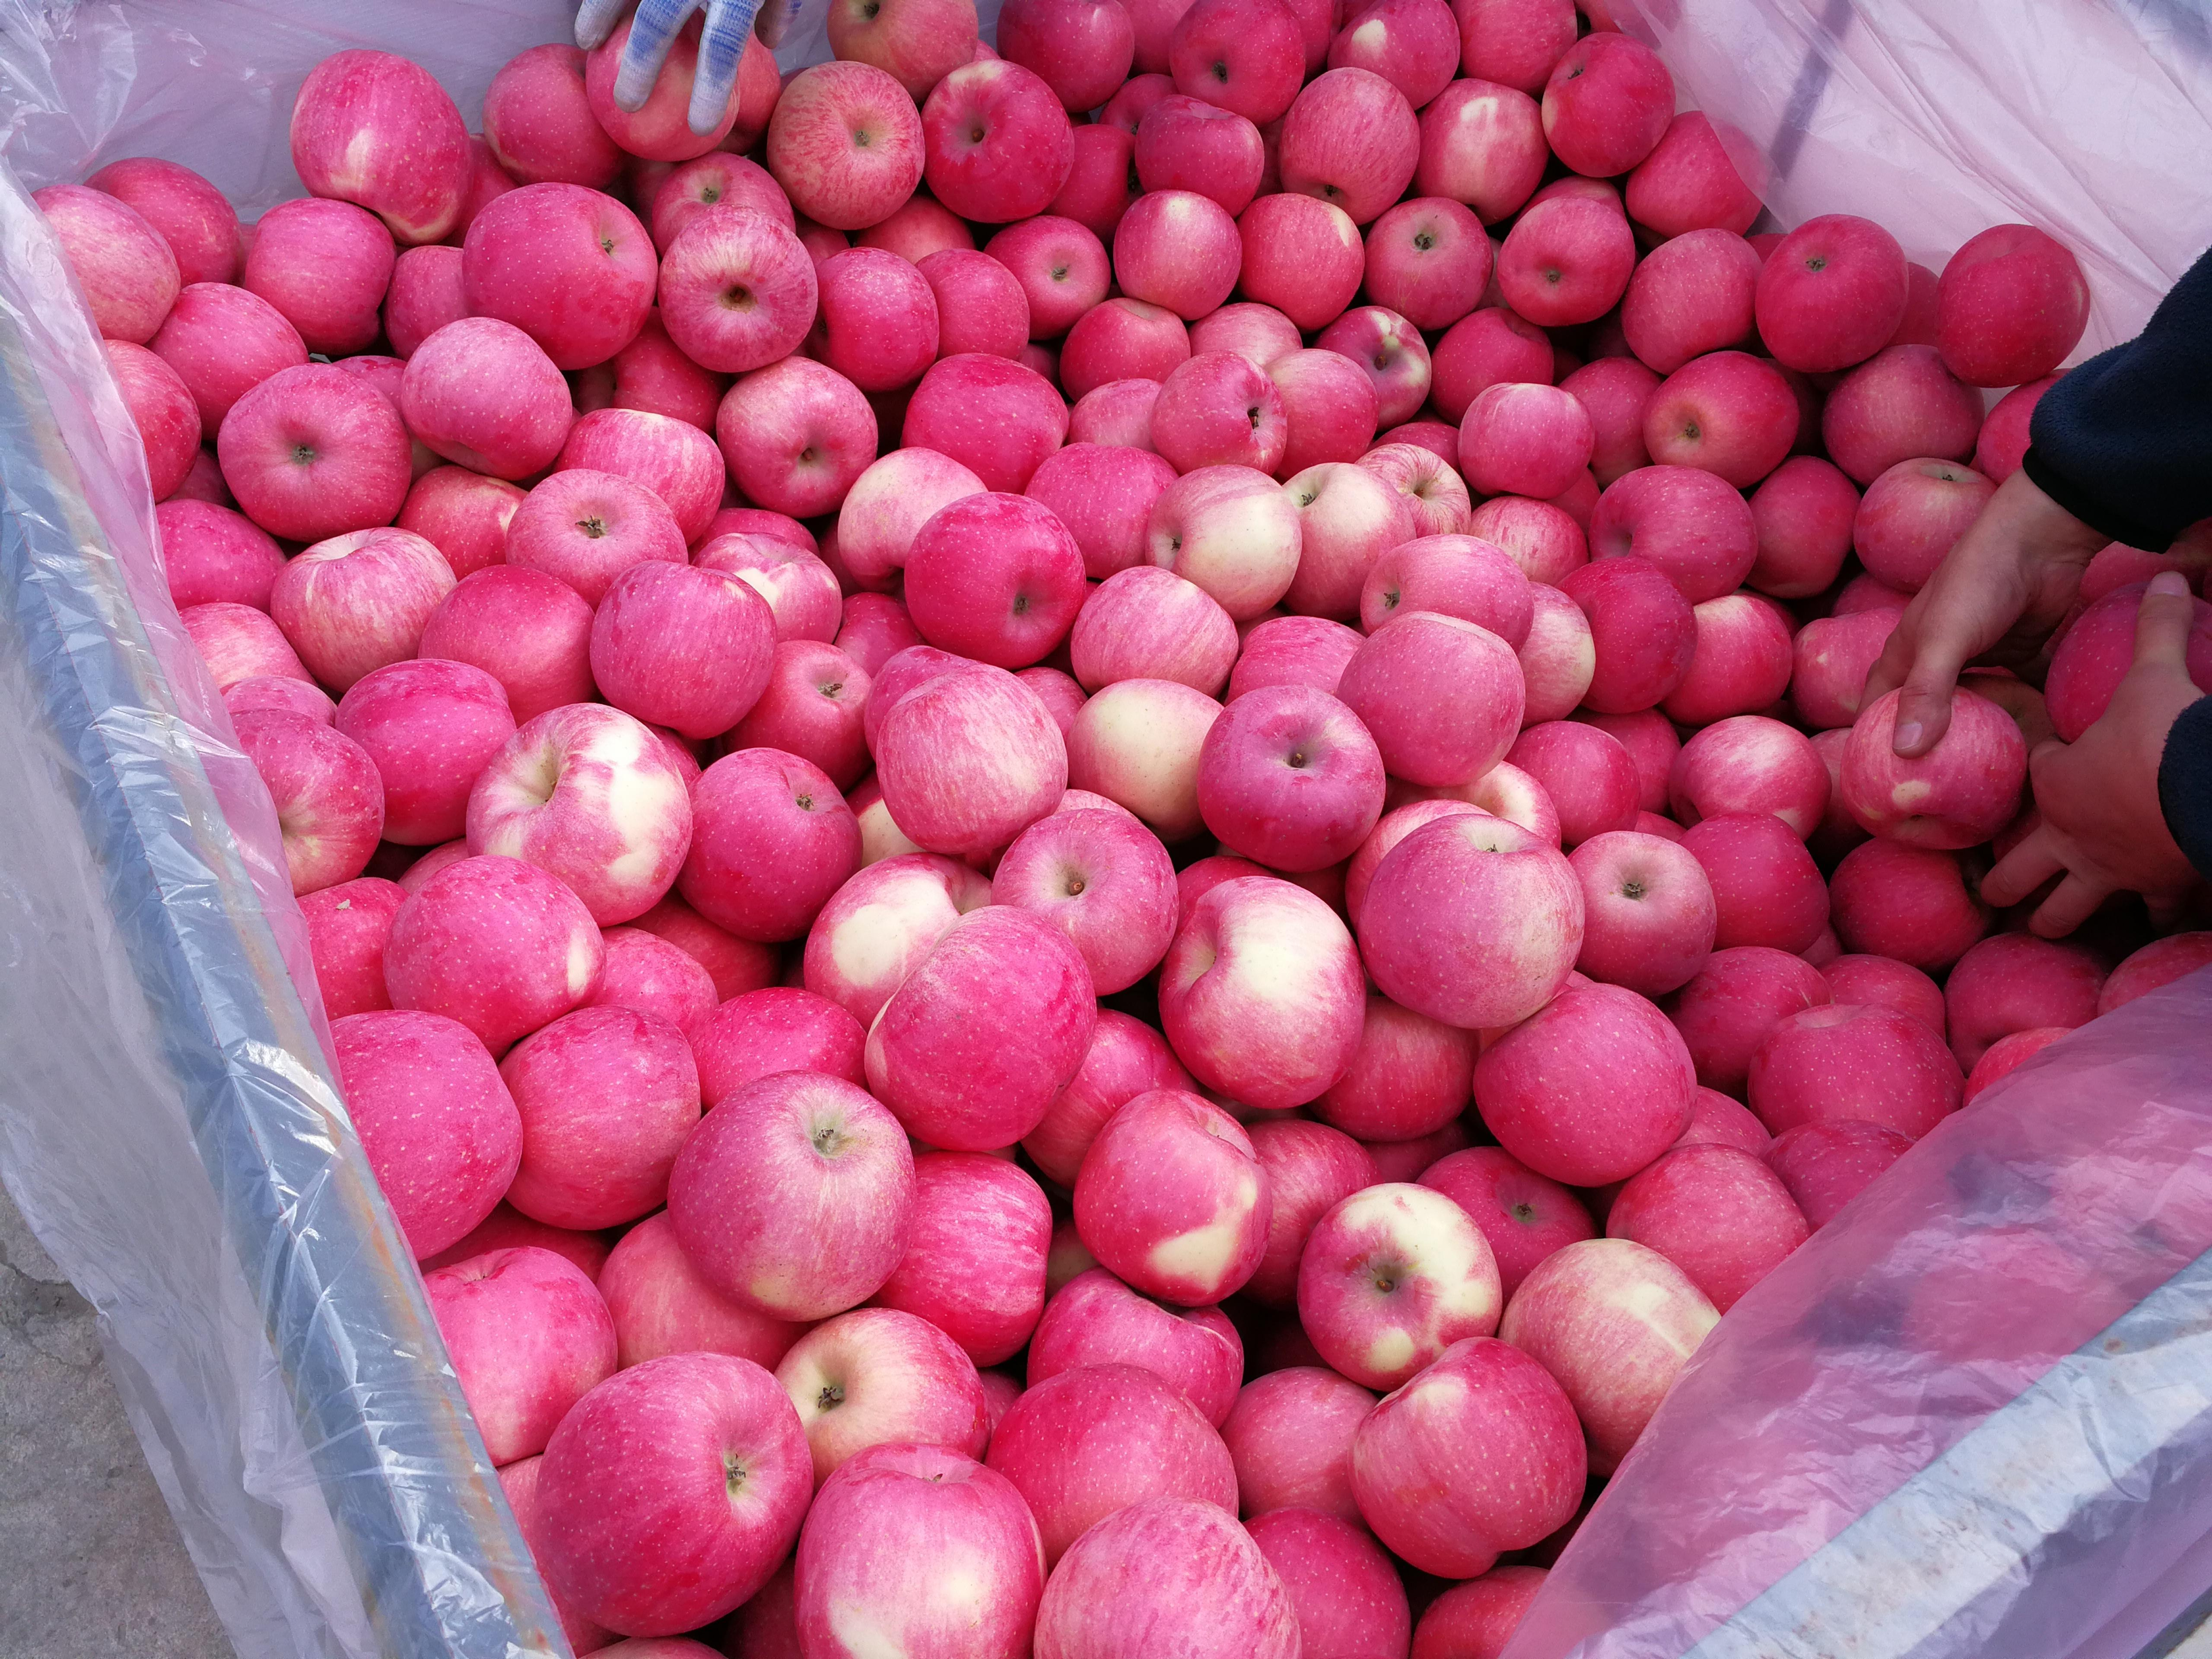apple: (38, 0, 2177, 1631), (533, 1351, 812, 1636), (327, 1004, 521, 1263), (420, 1239, 618, 1469), (214, 362, 413, 549), (916, 61, 1075, 227)
